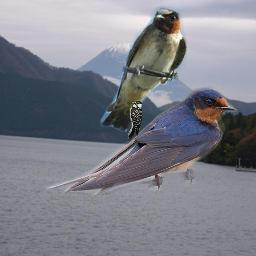Swallow: (45, 86, 237, 195), (99, 6, 187, 132)
Woodpecker: (127, 100, 142, 141)
